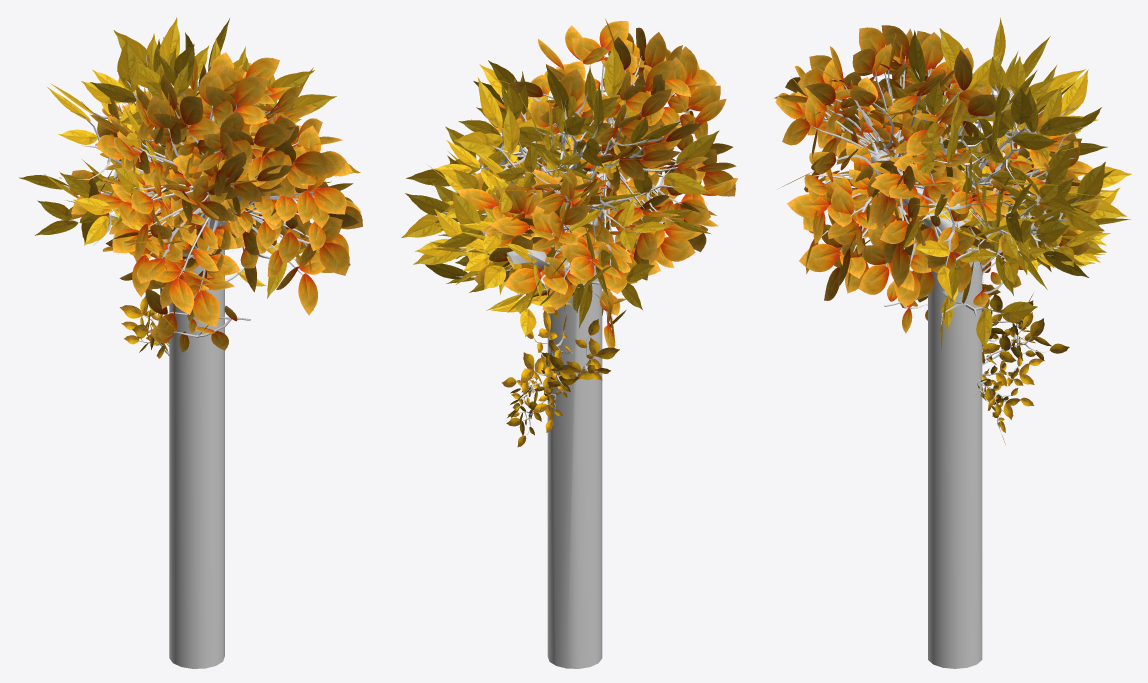
File: yellowtree2.fbx
3 renders of one model, left to right at view 1: azimuth 30°, elevation 25°; view 2: azimuth 150°, elevation 25°; view 3: azimuth 270°, elevation 25°, orthographic. The views are drawn at different scales.
Visible parts, largest first — view 1: pCylinder1064; view 2: pCylinder1064; view 3: pCylinder1064.
Part boxes in pixels (box(x1,y1,x2,y2)): pCylinder1064: box(19, 17, 362, 668); pCylinder1064: box(401, 18, 737, 668); pCylinder1064: box(774, 17, 1131, 668).
Bounding box in the file's own units: 23.13 × 49.55 × 25.99.
